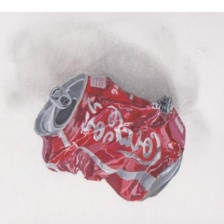can: (29, 63, 194, 205)
